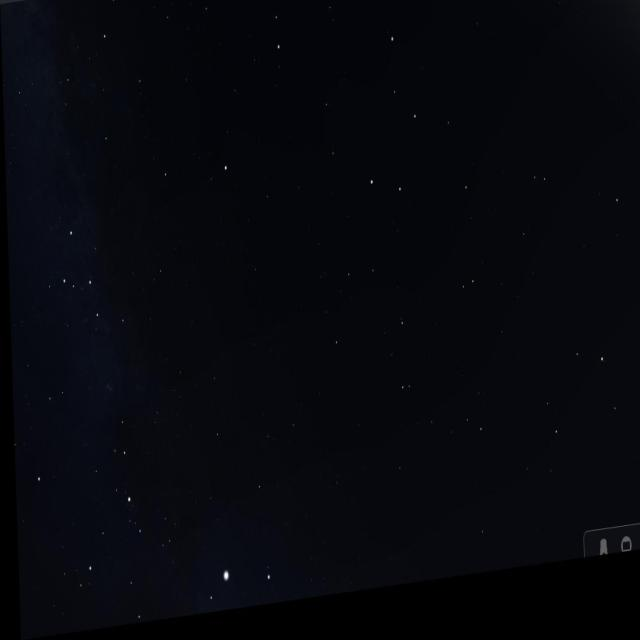ursa_major: (345, 0, 437, 244)
